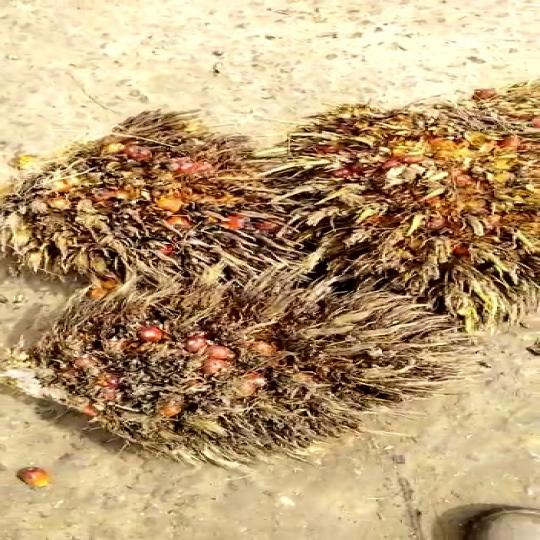terlalu masak: (0, 256, 449, 453), (289, 84, 540, 310), (0, 115, 302, 295)
